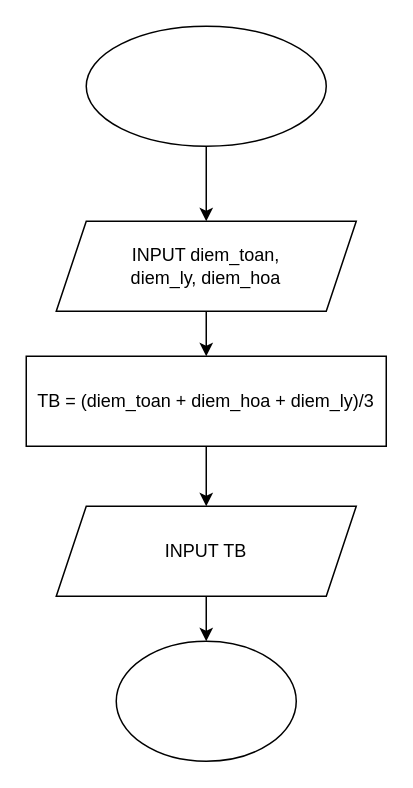
The diagram is 413 pixels wide and 788 high, and some of its shapes have lost their labels. The shapes that lost their labels are listed below. From the top down, each one's box as (x1, y1, x2, y2) in pixels, then its label:
(85, 25, 326, 146): START
(115, 640, 296, 761): END
